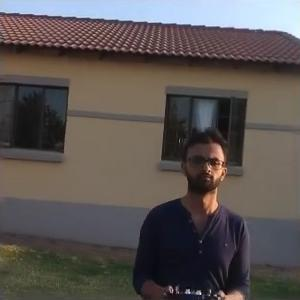follow: (126, 118, 255, 299)
